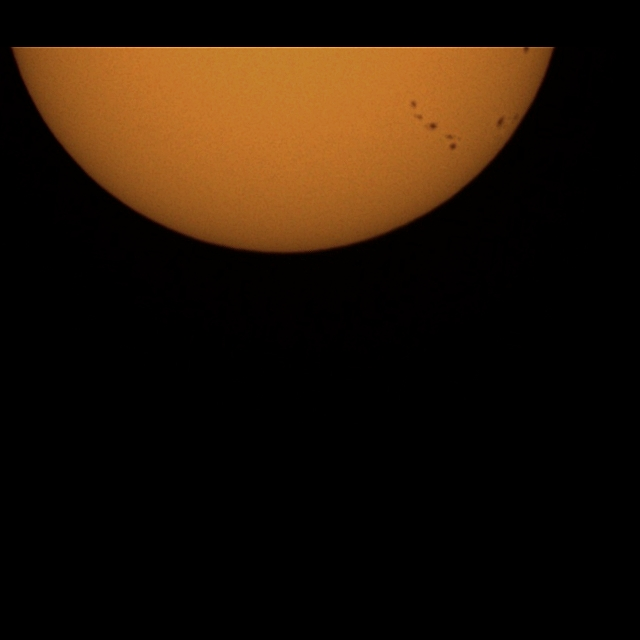sunspot: (410, 98, 438, 132), (495, 112, 520, 132), (444, 132, 462, 151), (409, 99, 418, 110)
